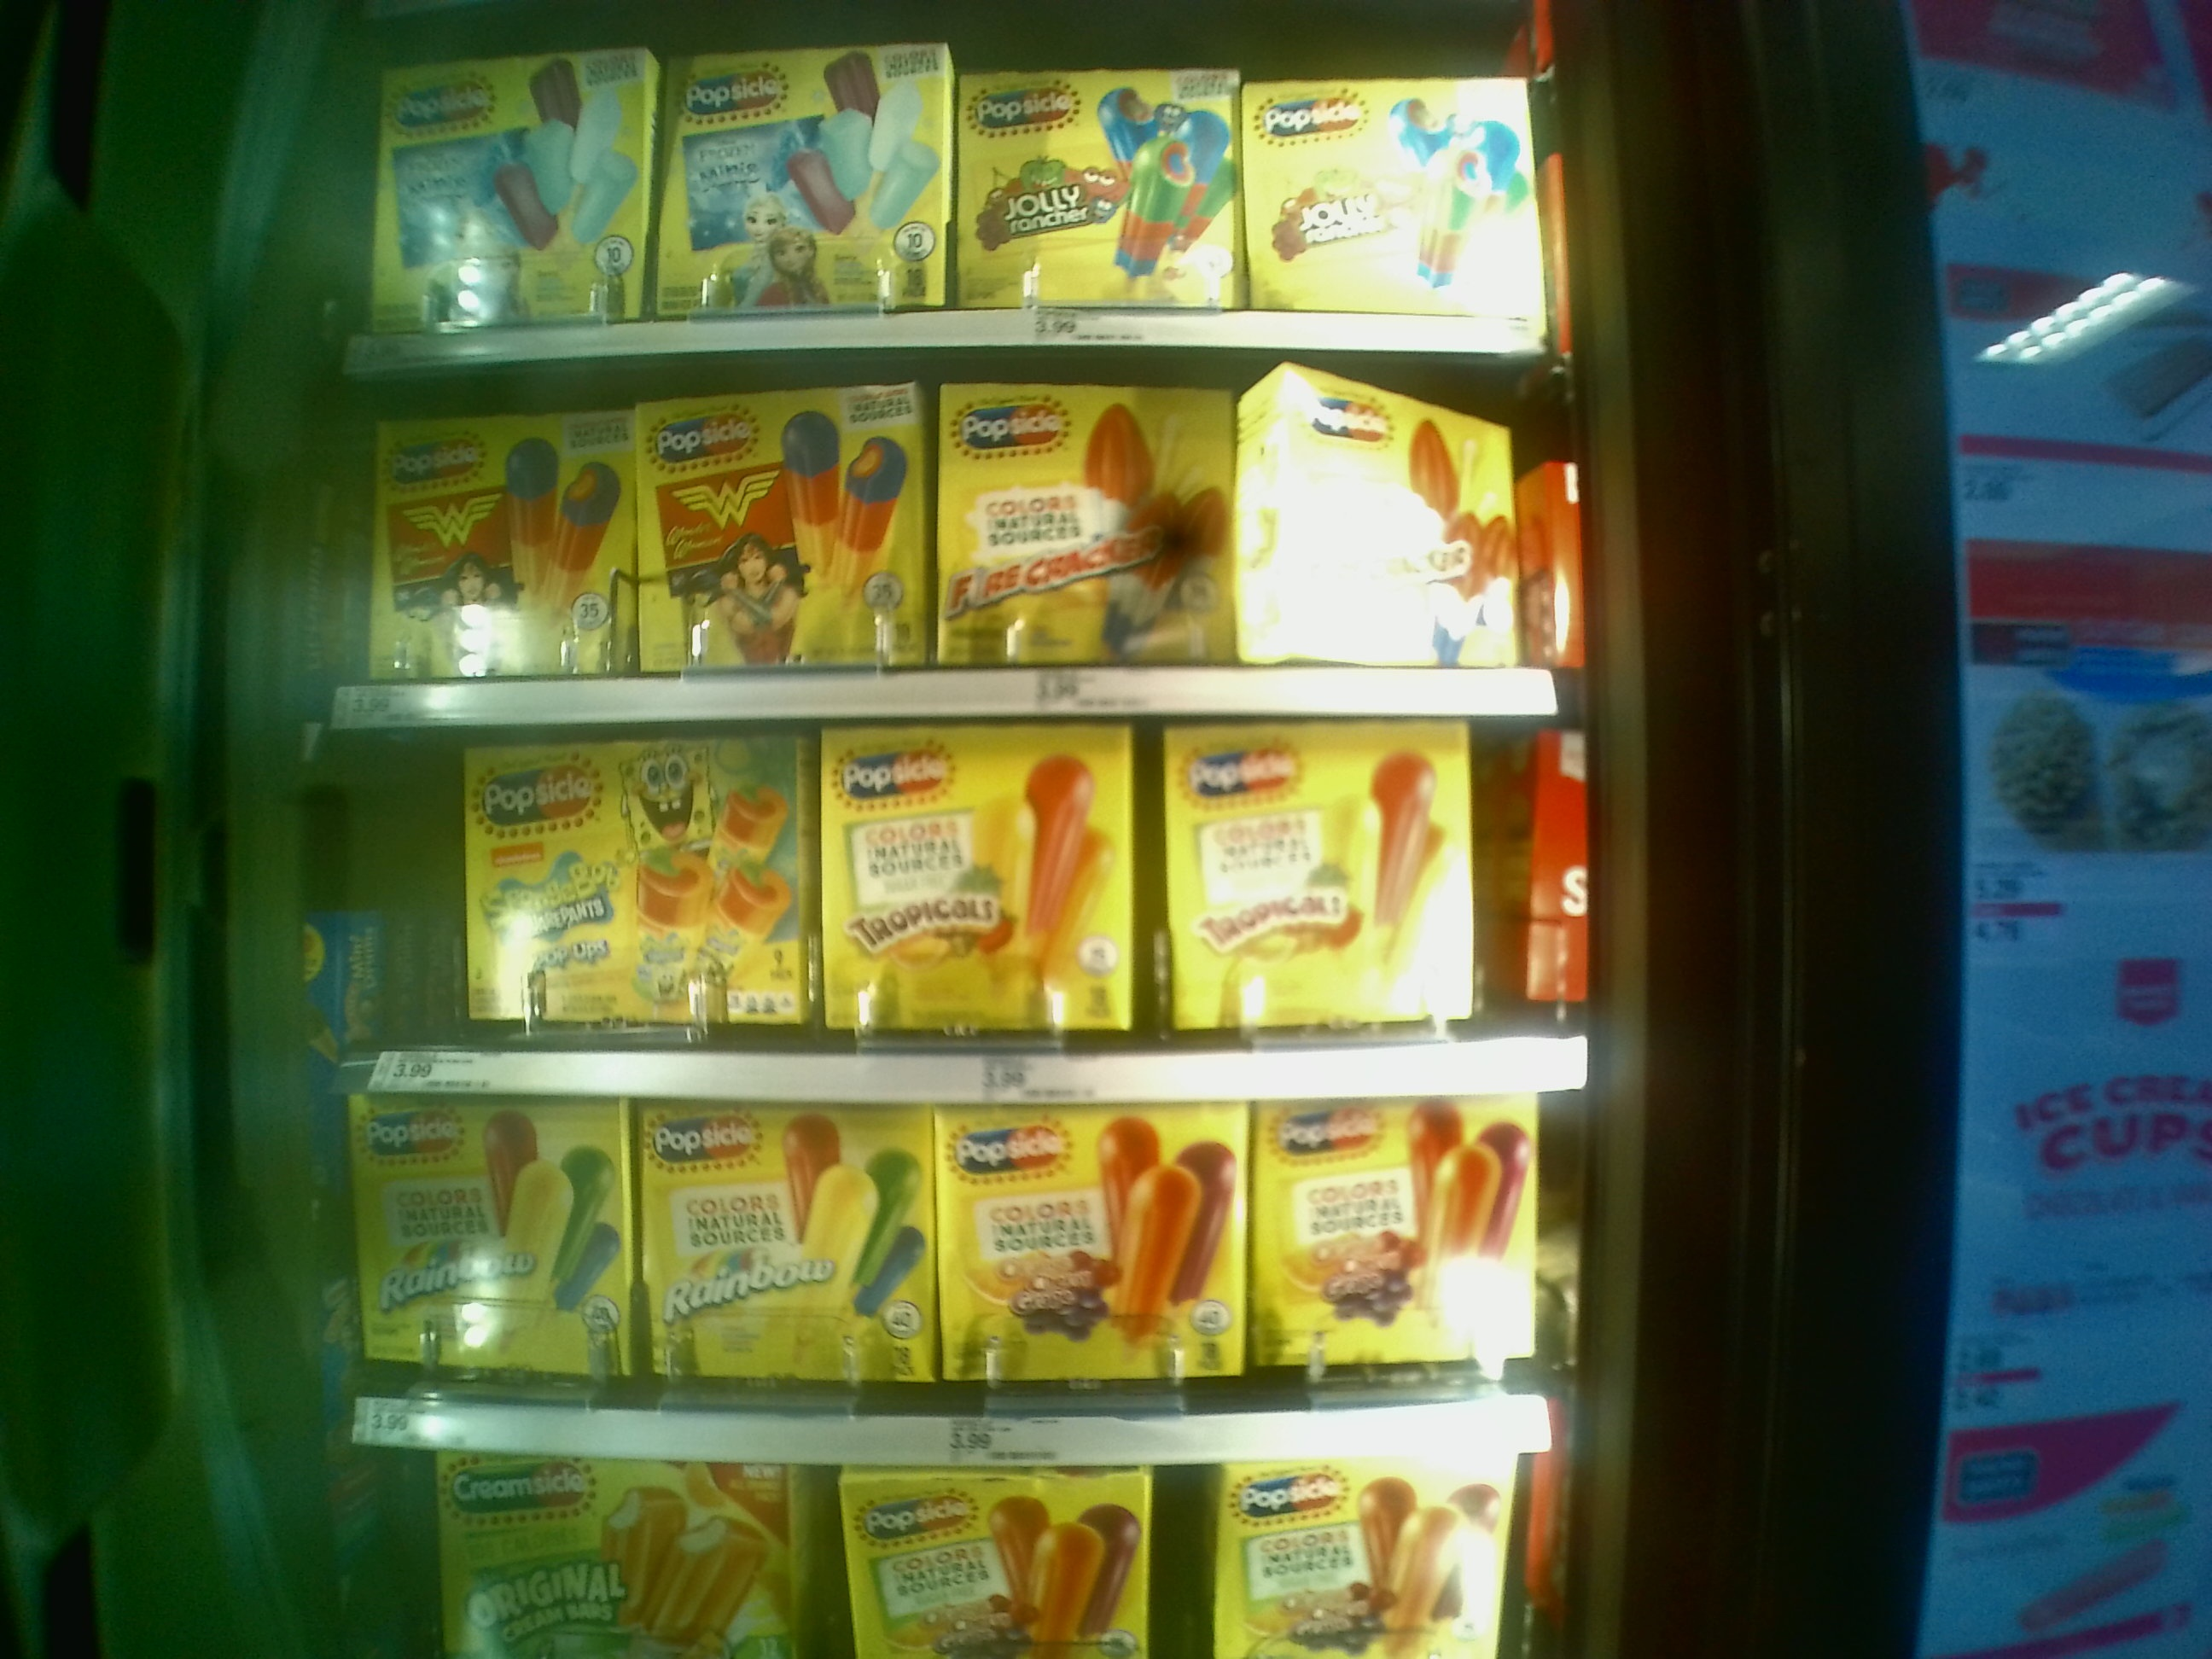frozen-food-shelf: (348, 730, 1597, 1107), (378, 1086, 1547, 1467), (340, 376, 1569, 718)
